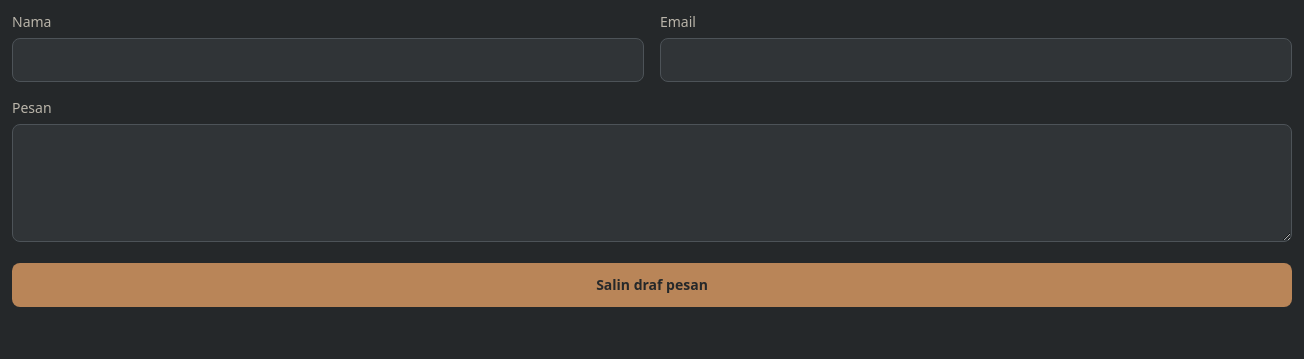
Test case: ContactDraftForm › copies a localized id draft without sending it
This screenshot has width=1304, height=359.
In the field labelled "Nama": (328, 60) [12,38,644,82], type "Rin"
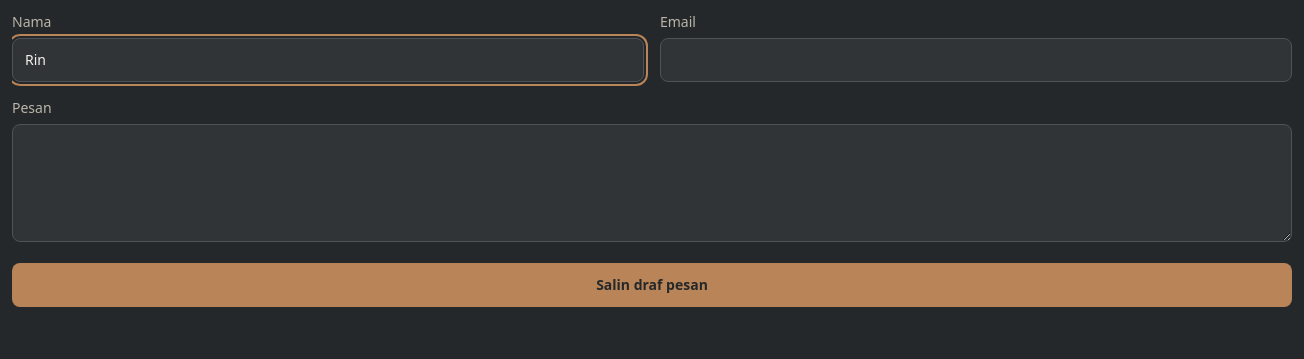
In the field labelled "Email": (976, 60) [660,38,1292,82], type "rin@example.com"
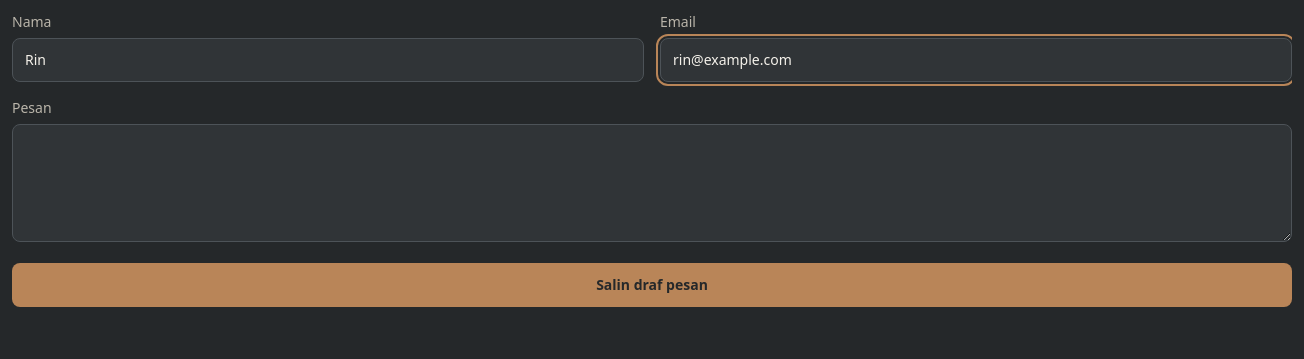
In the text box labelled "Pesan": (652, 183) [12,124,1292,242], type "Halo"
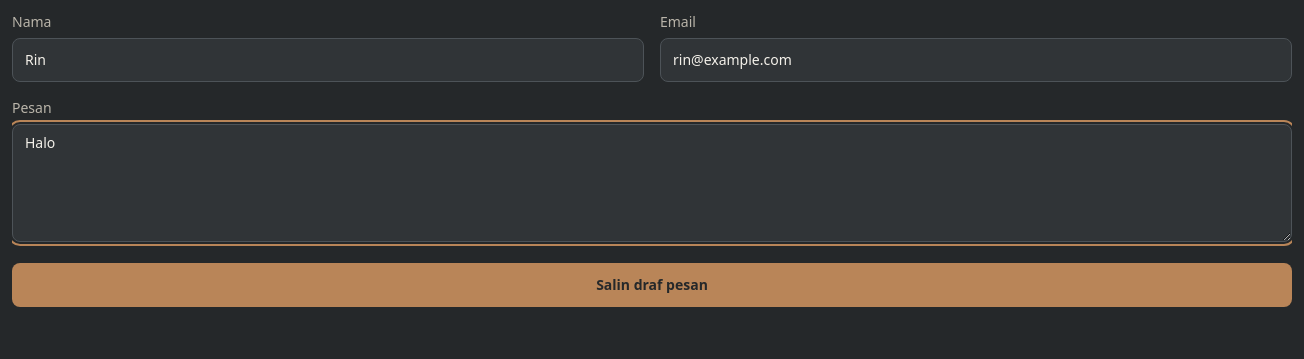
Click the button "Salin draf pesan": (652, 285) [12,263,1292,307]
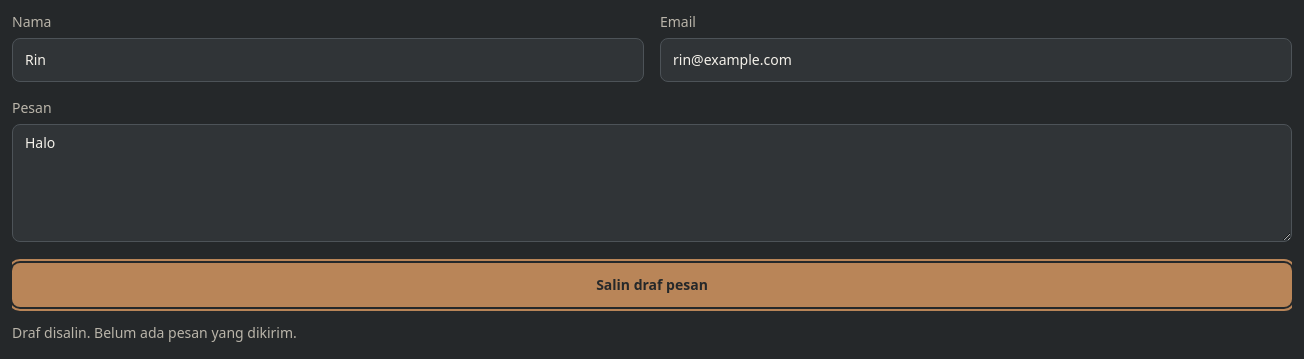
Now the message reads "Draf disalin. Belum ada pesan yang dikirim.", box [12,323,297,342]
